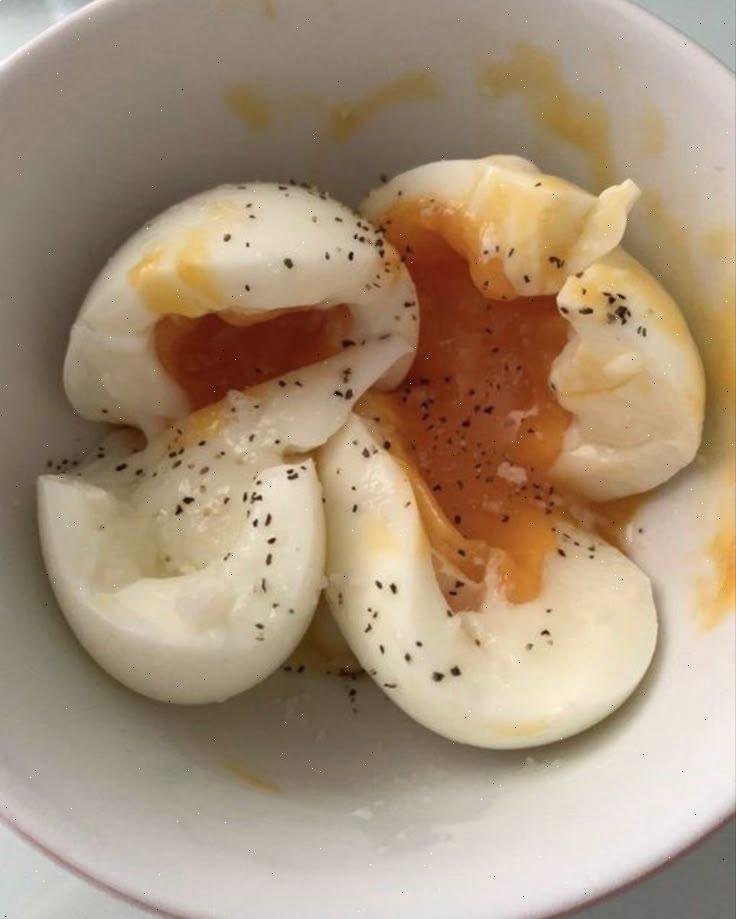eggs: (72, 147, 736, 770)
